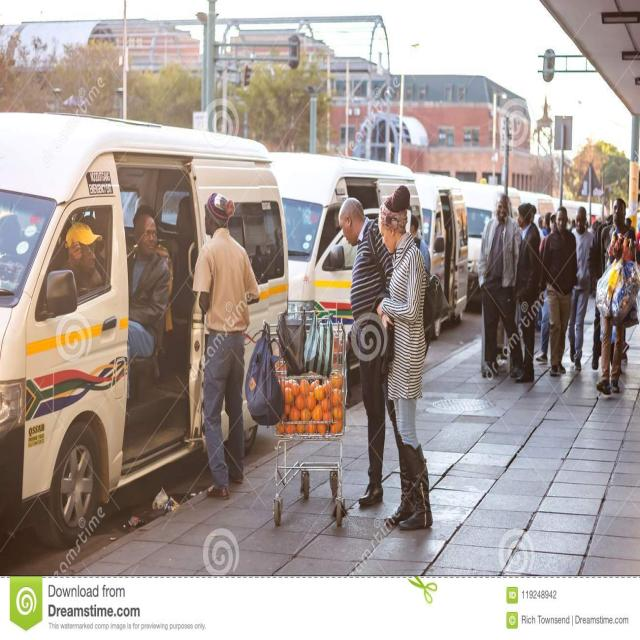Pedestrians: (376, 177, 438, 537), (337, 194, 400, 511), (198, 186, 260, 499)
